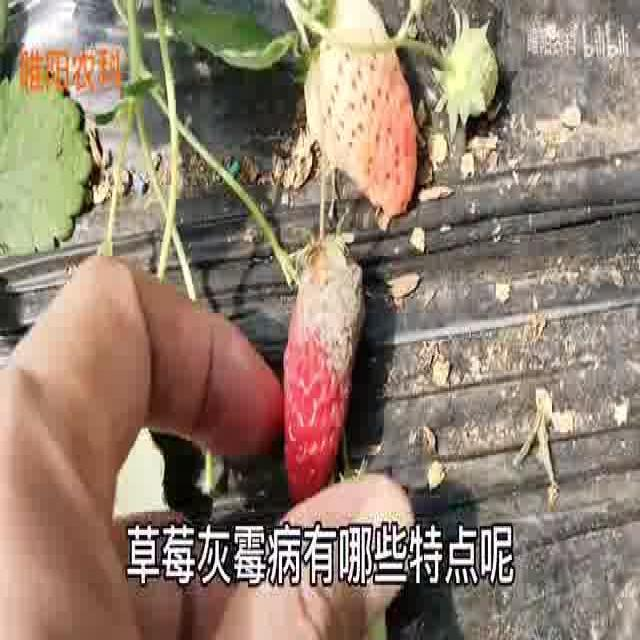Moho gris: (274, 242, 376, 478)
